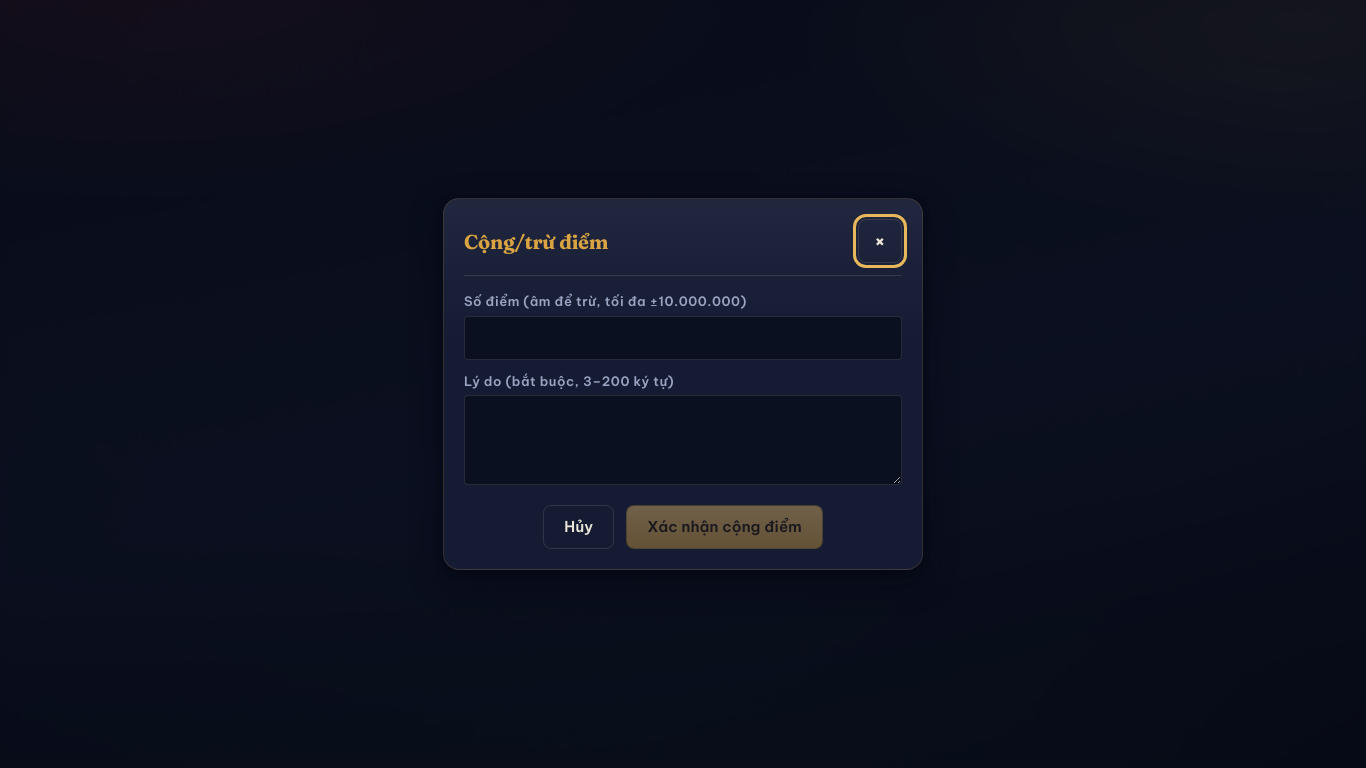
Test case: ReasonDialog › shows the server refusal in words and stays open
This screenshot has width=1366, height=768.
Type "sửa" into the text box labelled "Lý do (bắt buộc, 3–200 ký tự)". click: (683, 440)
box: [464,395,902,485]
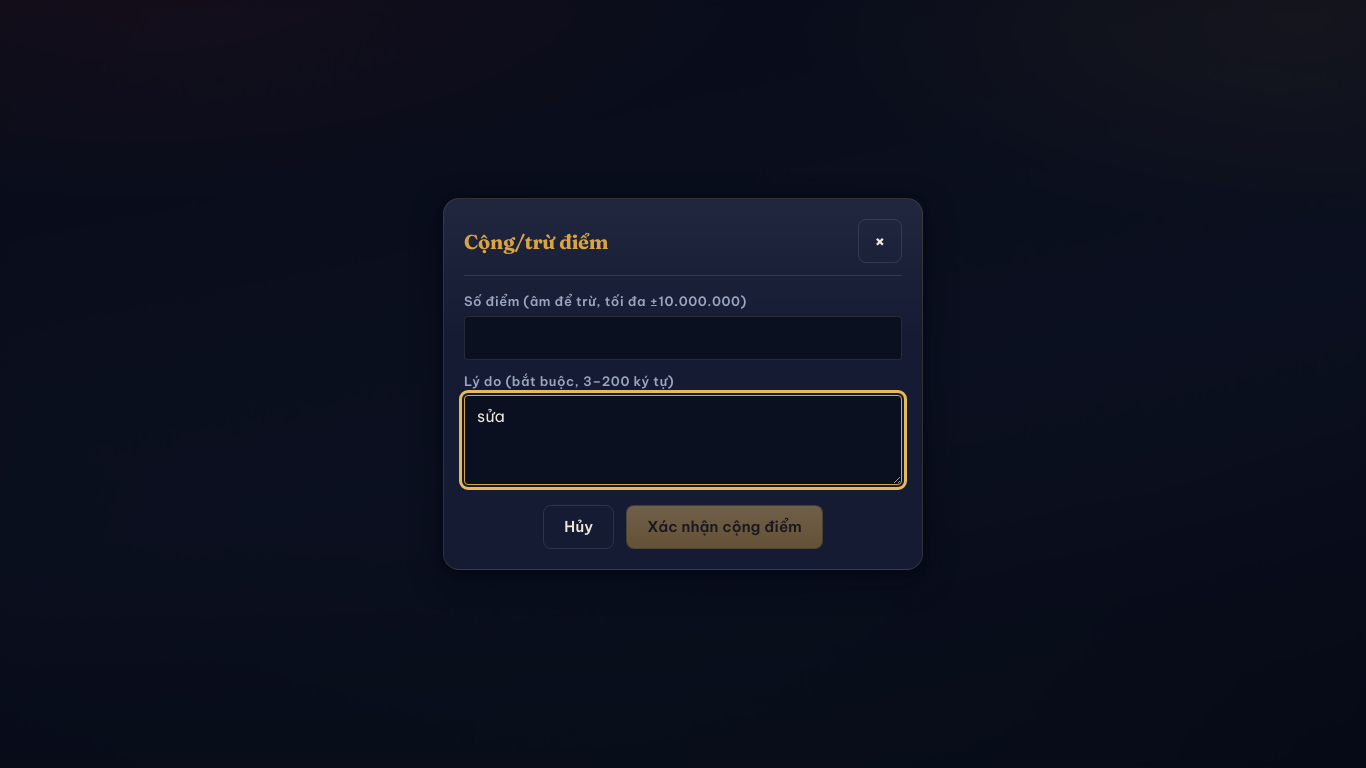
Type "-500" into the field labelled "Số điểm (âm để trừ, tối đa ±10.000.000)". click: (683, 338)
box: [464,316,902,360]
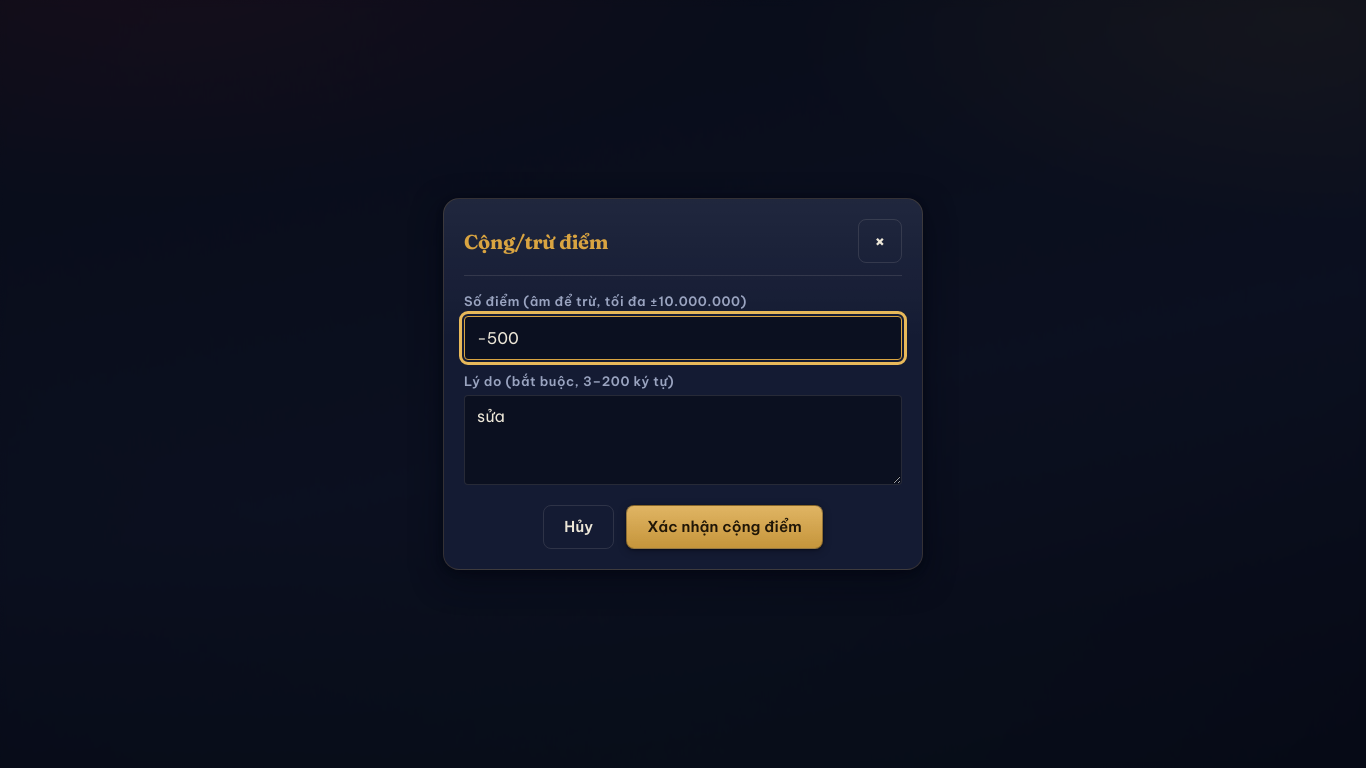
Click the button "Xác nhận cộng điểm". click: (725, 527)
box: [626,505,823,549]
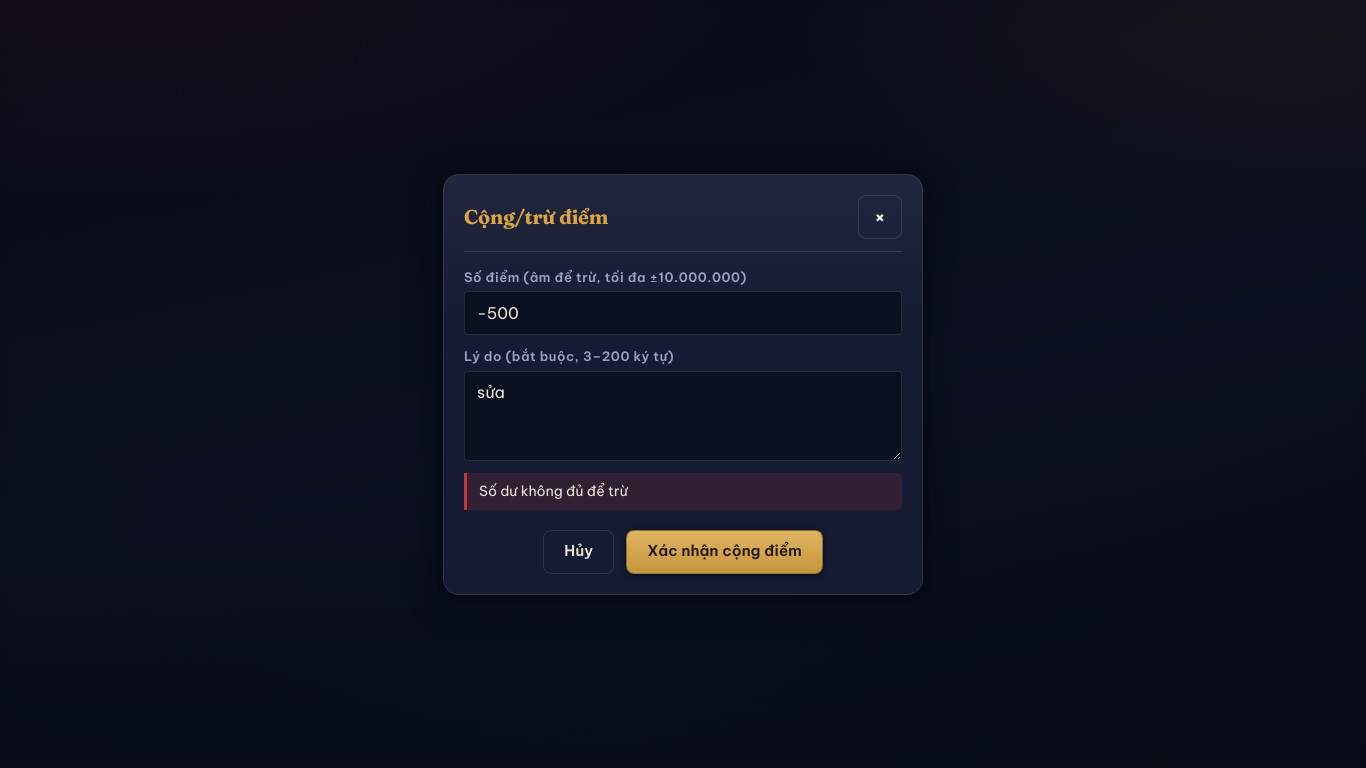
Expected: the button "Xác nhận cộng điểm" is enabled, [626,530,823,574]
Expected: the message reads "Số dư không đủ để trừ", [479,482,628,500]
